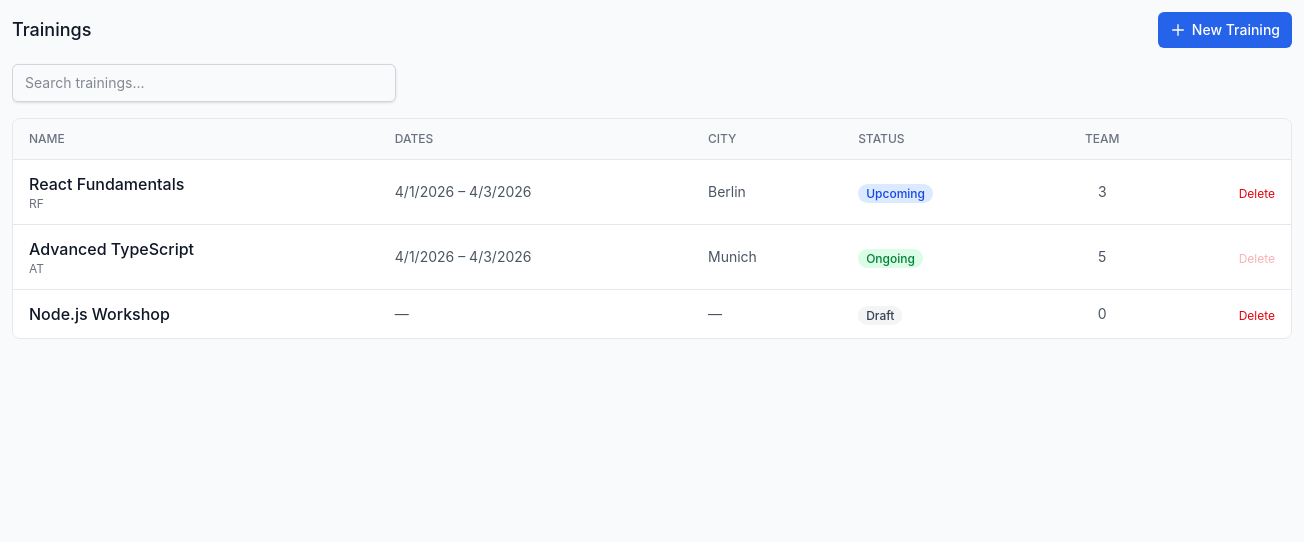
Test: TrainingsListTab › create training flow › hides create form when Cancel is clicked
This screenshot has width=1304, height=542.
Click the button "New Training" at [1225, 30], box [1158,12,1292,48]
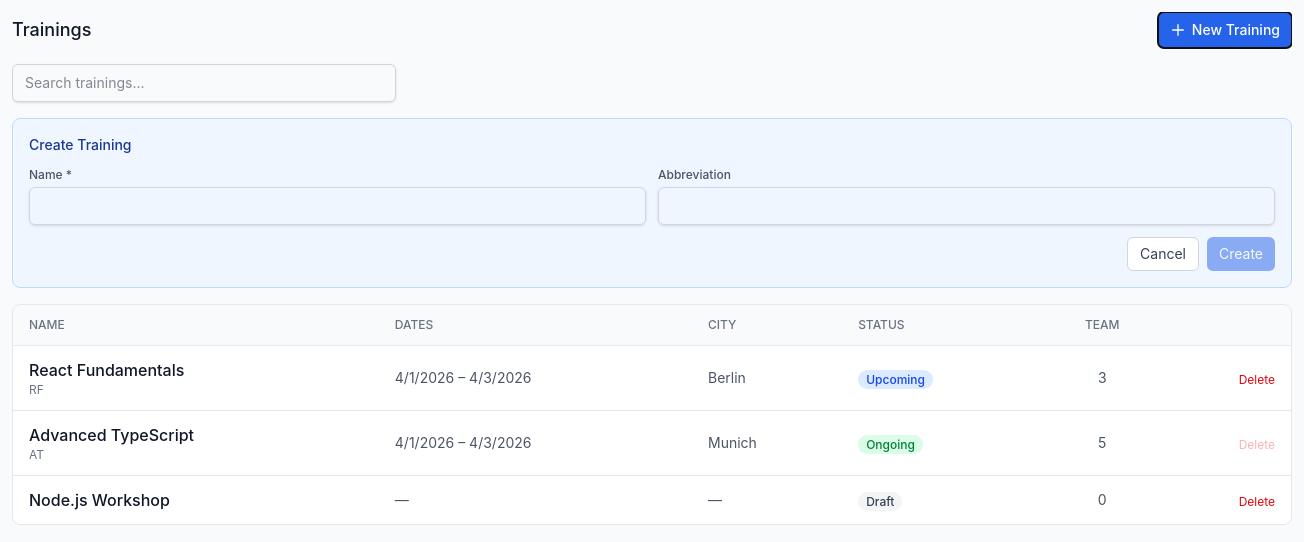
Expected: the heading "Create Training" is shown, [29,136,132,153]
Click the button "Cancel" at [1163, 254], box [1127,237,1199,271]
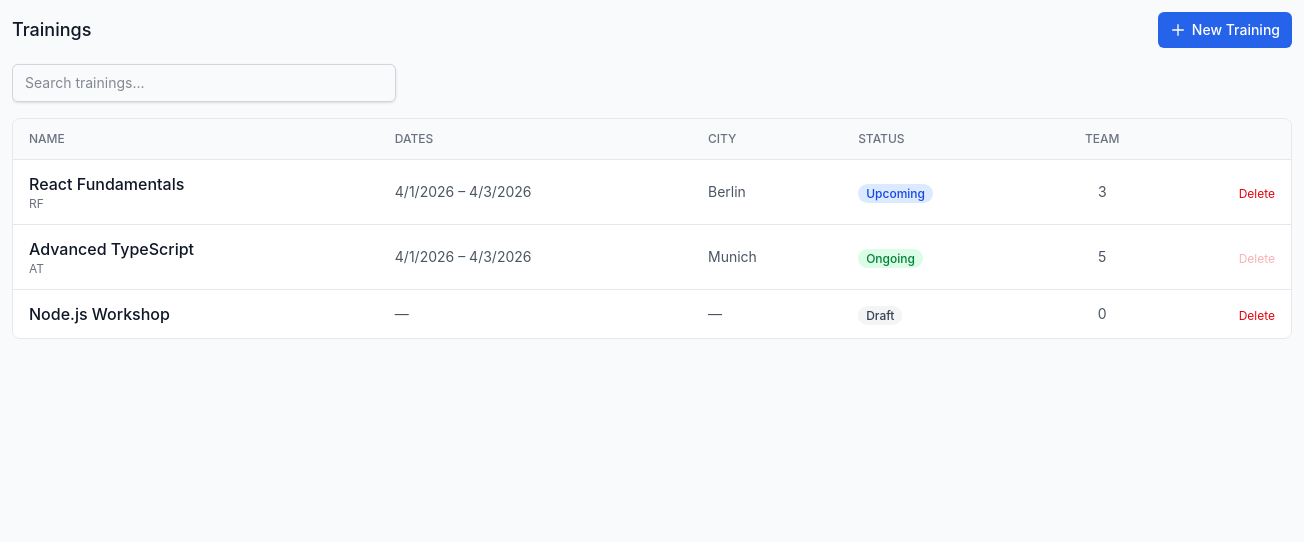
Expected: the heading "Create Training" is gone
